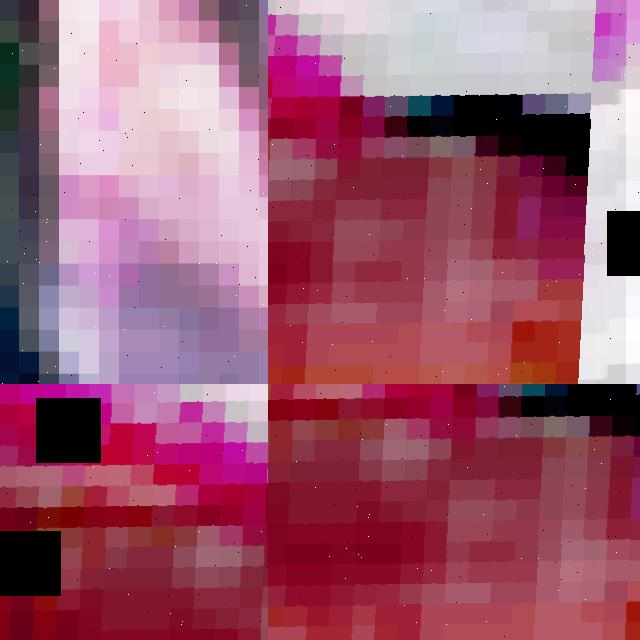arms: (268, 0, 626, 384), (268, 384, 640, 640), (0, 384, 268, 640)
